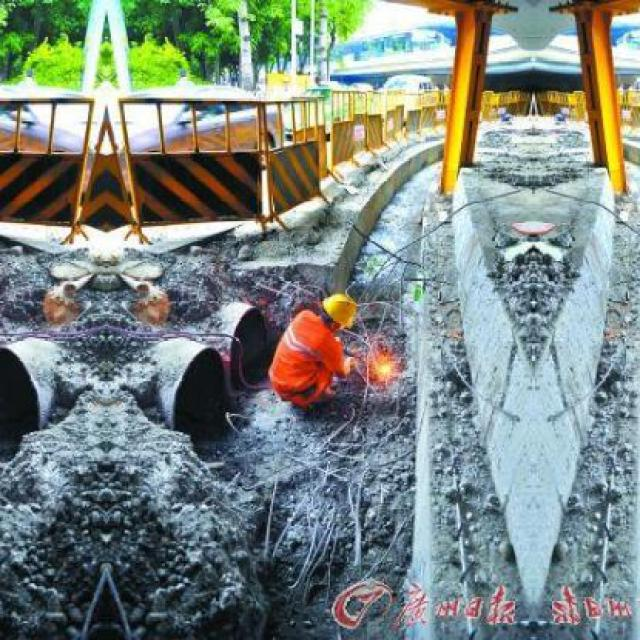helmet: (318, 288, 358, 330)
